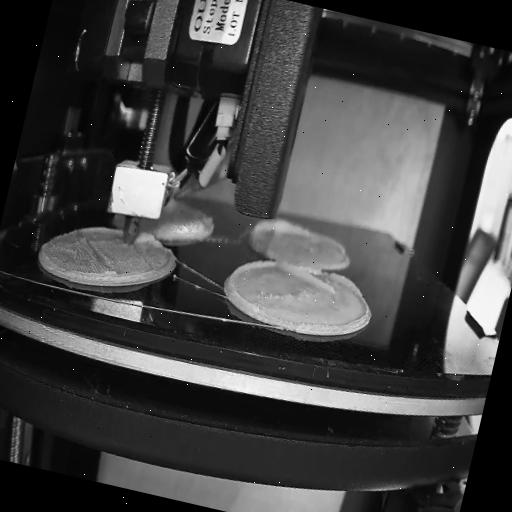over_extrusion: (276, 258, 366, 306), (226, 252, 276, 300), (251, 217, 313, 248), (134, 228, 162, 250)
